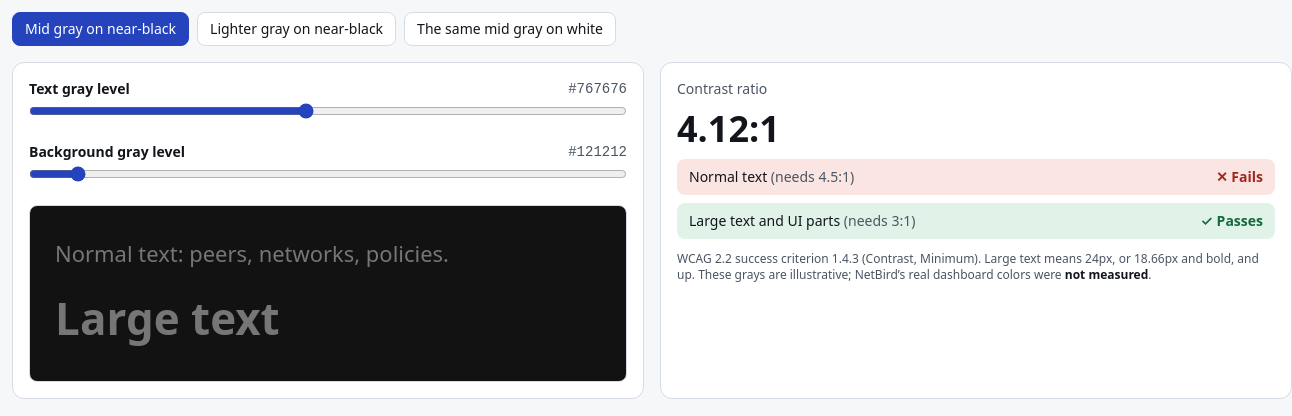
Test: ContrastExplorer › recalculates from the sliders and applies the colors to the sample
Step 1. Set the slider labelled "Text gray level #767676" to "0" → (37, 111), box left=29, top=103, right=627, bottom=119
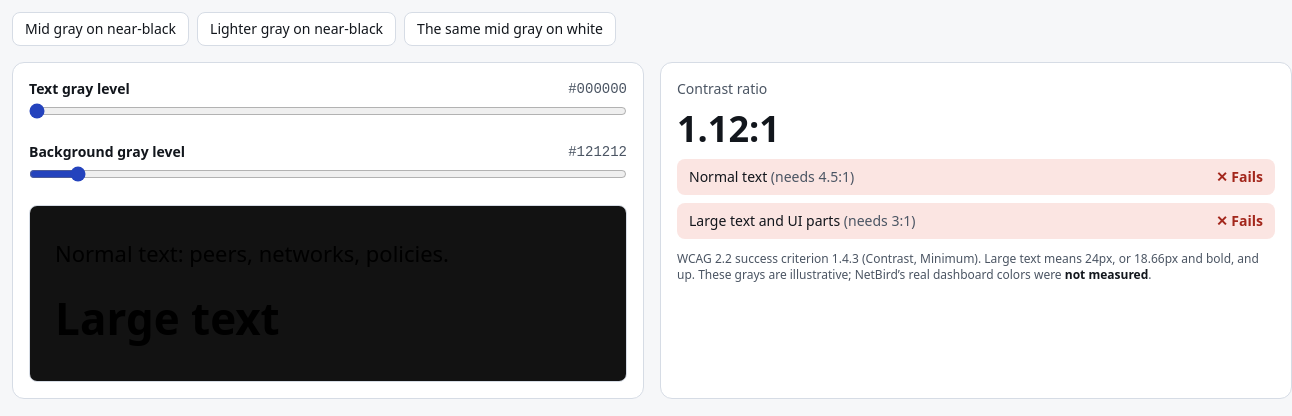
Step 2. Set the slider labelled "Background gray level #121212" to "255" → (619, 174), box left=29, top=166, right=627, bottom=182
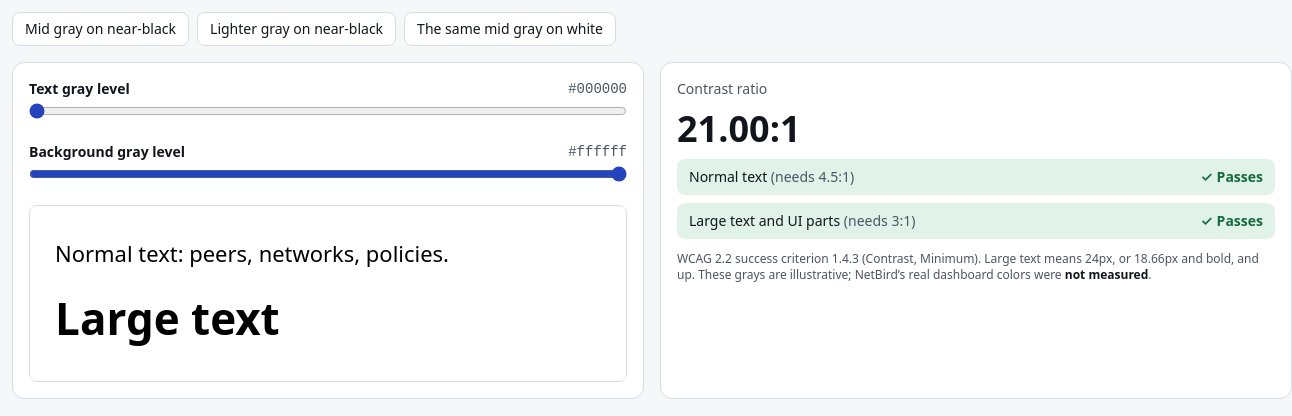
Now the text "21.00:1" is shown, box left=677, top=104, right=800, bottom=153
